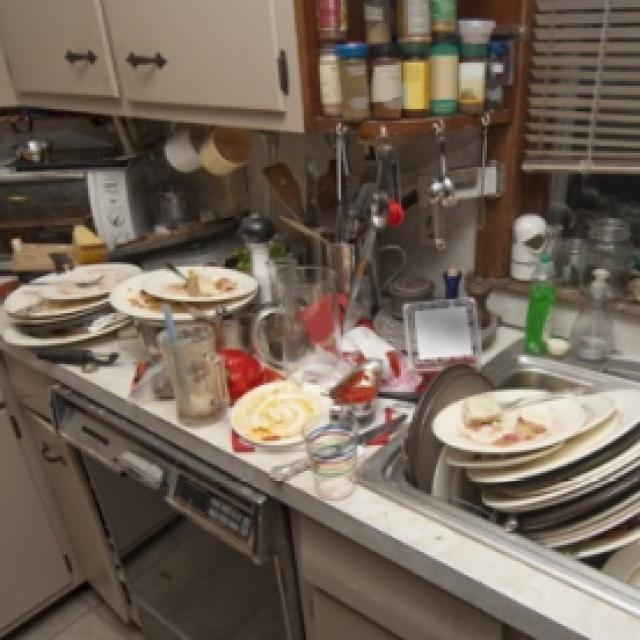mess: (28, 237, 640, 568)
